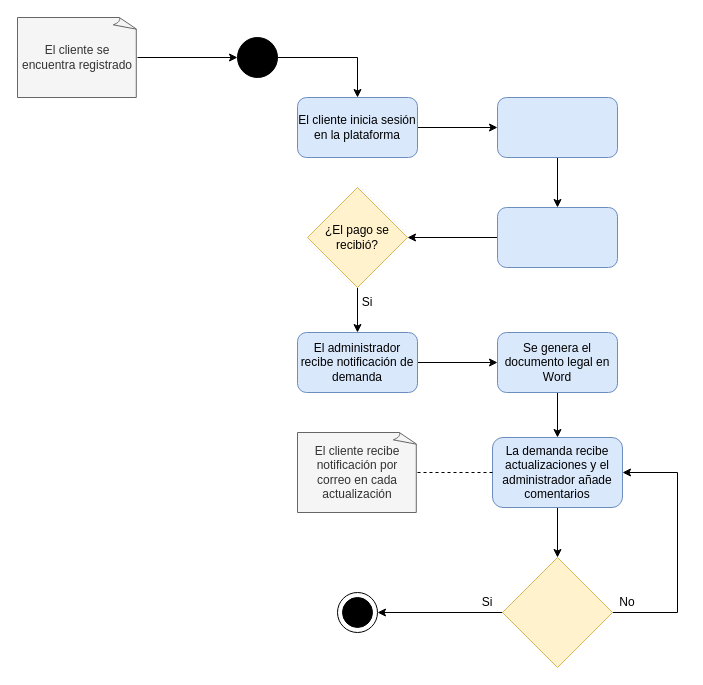
Some shapes in this 703 by 685 pixel diagram are drawn without their labels. The box of each missing label's shape, as (x1, y1, x2, y2) in pixels:
Llena y envía el formulario de demanda: (496, 96, 618, 158)
Se genera ficha de pago para el cliente: (496, 206, 618, 268)
¿La demanda ha concluido?: (502, 556, 612, 668)
